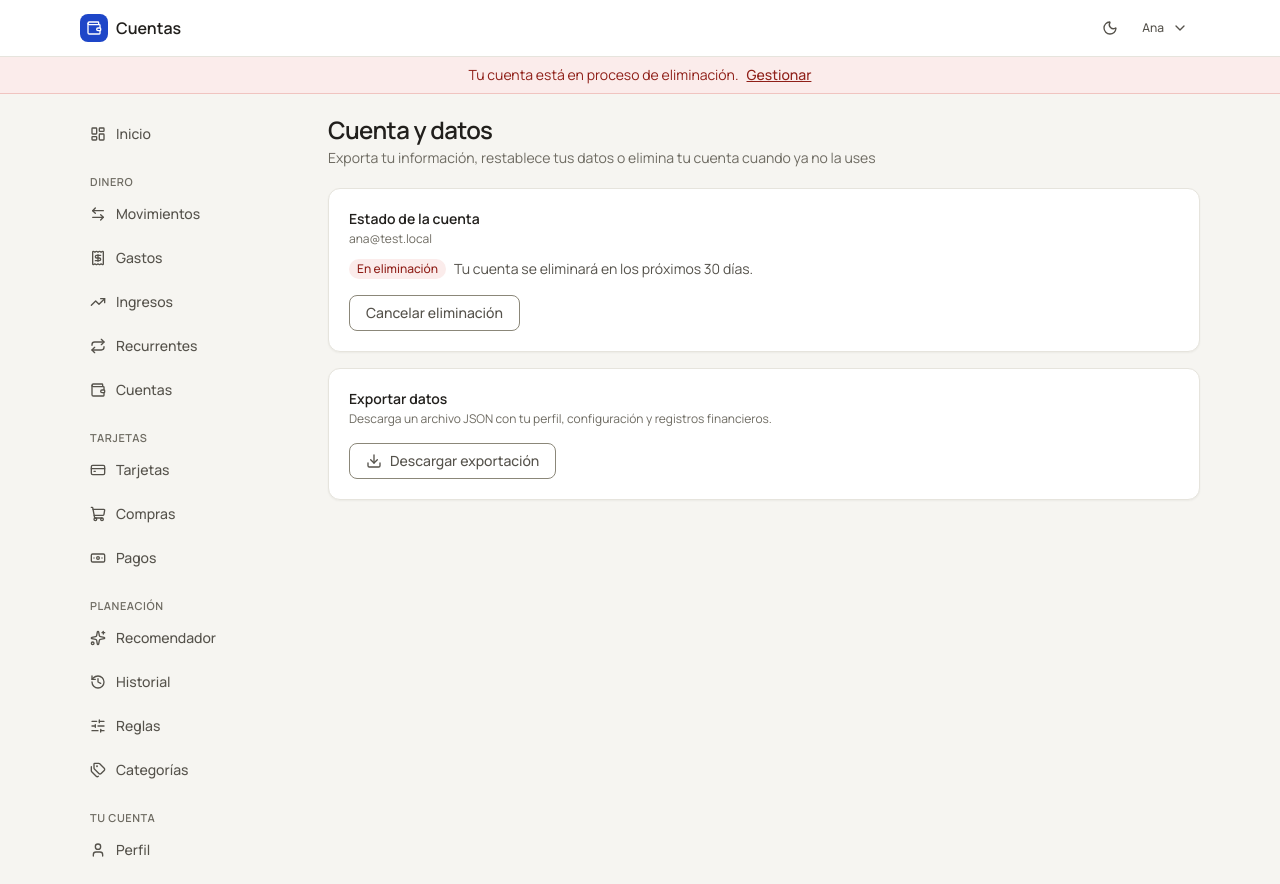
Test: cuenta y datos › permite cancelar la eliminación cuando la cuenta está en proceso
The image size is (1280, 884).
Check: the text "Tu cuenta está en proceso de eliminación." is shown, box [469,65,738,85]
Click the button "Cancelar eliminación" at coordinates (434, 313), box [349,295,520,331]
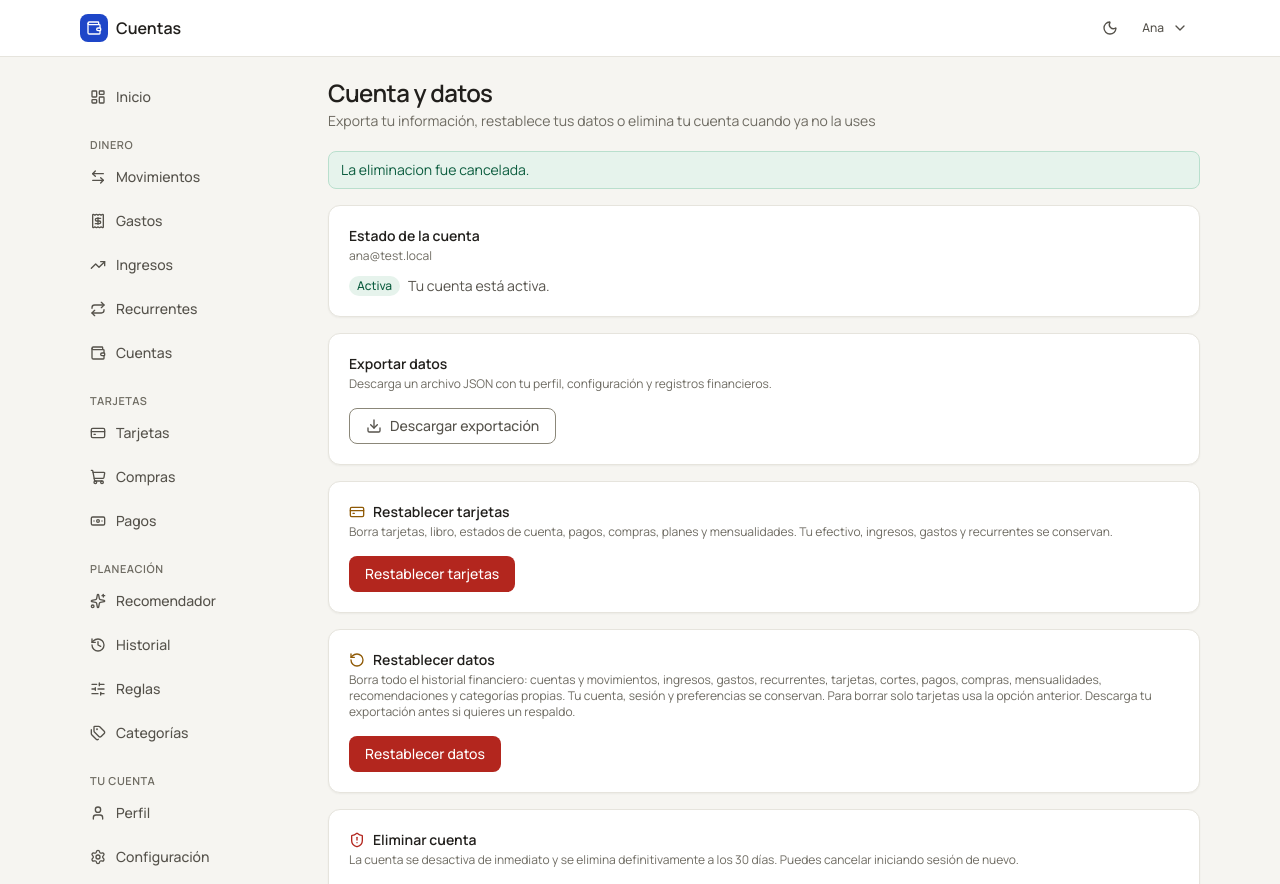
Check: the text "La eliminacion fue cancelada." is shown, box [328,151,1200,189]
